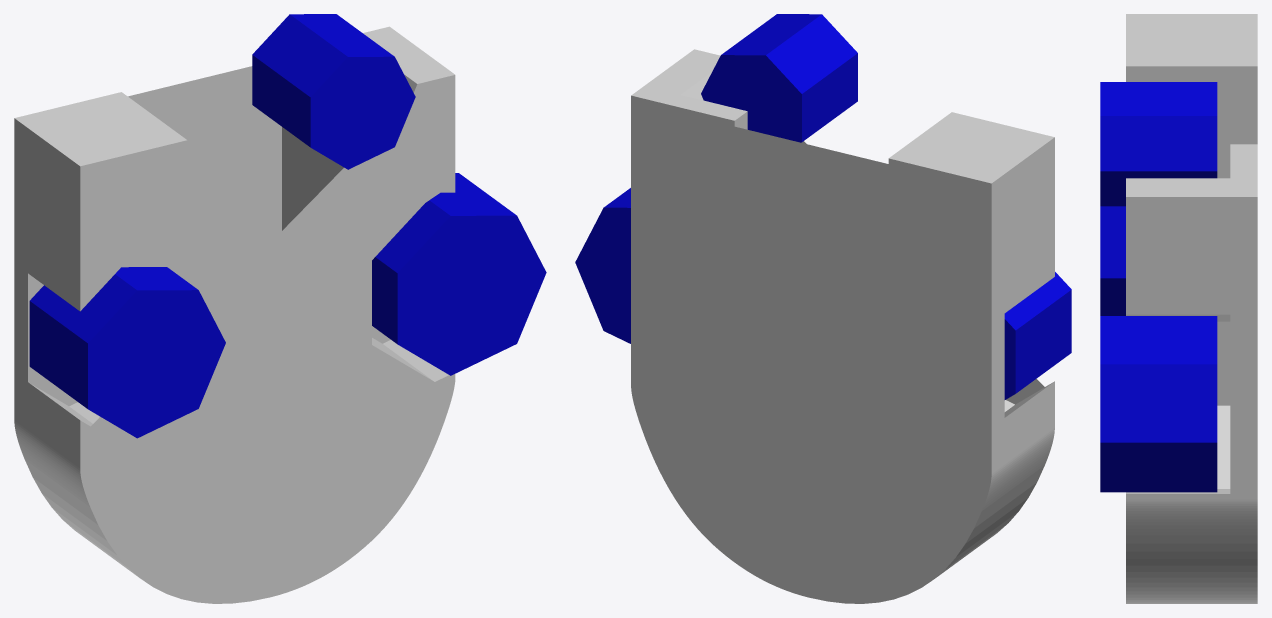
File: Ch_Lite_U_01.fbx
The picture shows the model from 3 angles, left to right: view 1: azimuth 30°, elevation 25°; view 2: azimuth 150°, elevation 25°; view 3: azimuth 270°, elevation 25°; orthographic projection. The views are drawn at different scales.
Visible parts, largest first — view 1: sphere1; view 2: sphere1; view 3: sphere1.
Boxes of the visible parts, left/top/right/bottom form: sphere1: left=14, top=14, right=546, bottom=603; sphere1: left=575, top=14, right=1071, bottom=603; sphere1: left=1100, top=14, right=1257, bottom=603.
Size of the model in its own units: 0.804 by 0.8945 by 0.2387.
